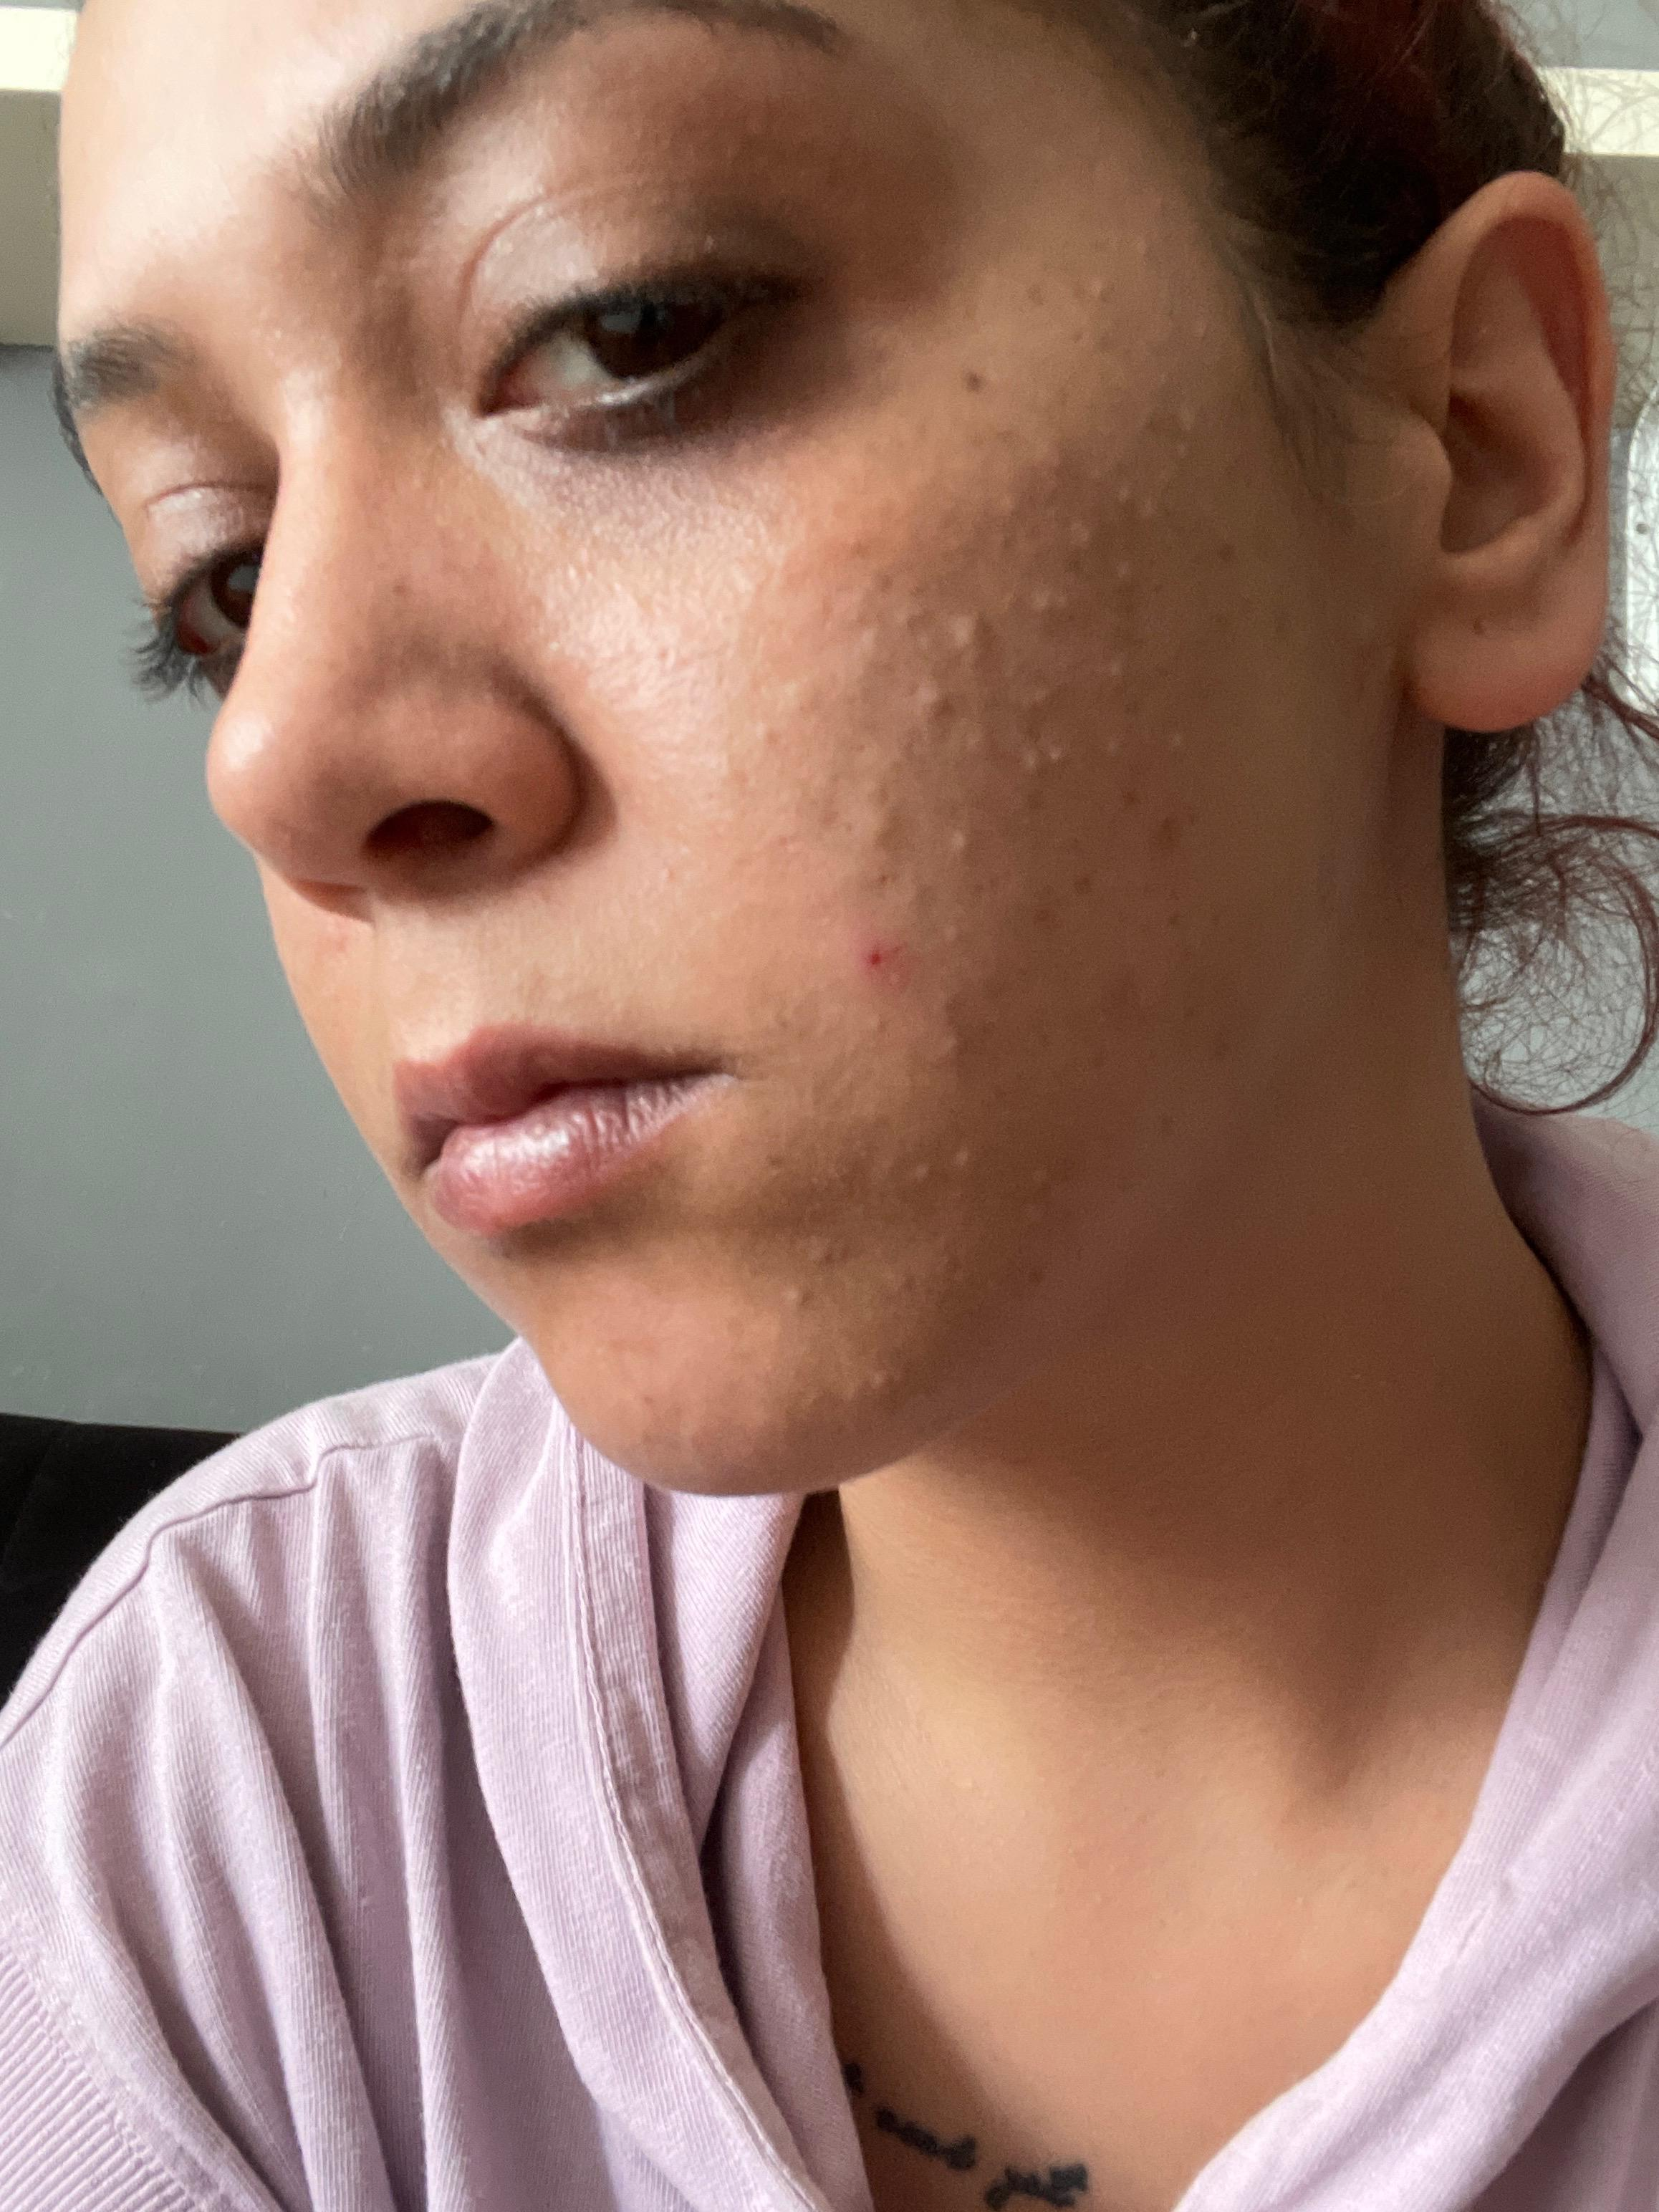Eyebags: (469, 289, 880, 488), (896, 1137, 986, 1193), (826, 1355, 911, 1409), (856, 787, 910, 871), (993, 589, 1073, 632), (945, 606, 999, 669), (1159, 402, 1211, 465), (934, 977, 969, 1071), (913, 669, 958, 740), (847, 611, 896, 671), (993, 681, 1073, 716), (1016, 740, 1075, 787), (775, 671, 823, 726), (1147, 808, 1190, 864), (1058, 864, 1112, 902), (1087, 644, 1140, 683), (769, 1271, 816, 1312), (856, 932, 894, 981), (1026, 1151, 1065, 1198), (807, 1233, 854, 1270), (1126, 226, 1162, 268), (945, 813, 976, 862), (1101, 556, 1143, 590), (1012, 1261, 1049, 1299), (1063, 517, 1096, 559), (1025, 900, 1061, 937), (1208, 1024, 1243, 1062), (1108, 475, 1138, 517), (945, 911, 974, 953), (992, 482, 1026, 517), (1084, 273, 1117, 303), (1107, 728, 1131, 765), (1117, 787, 1152, 812), (1150, 1109, 1180, 1137), (1168, 730, 1195, 754)
